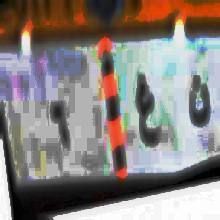6: (50, 98, 72, 148)
ghayn: (136, 74, 159, 148)
noon: (188, 71, 209, 126)
